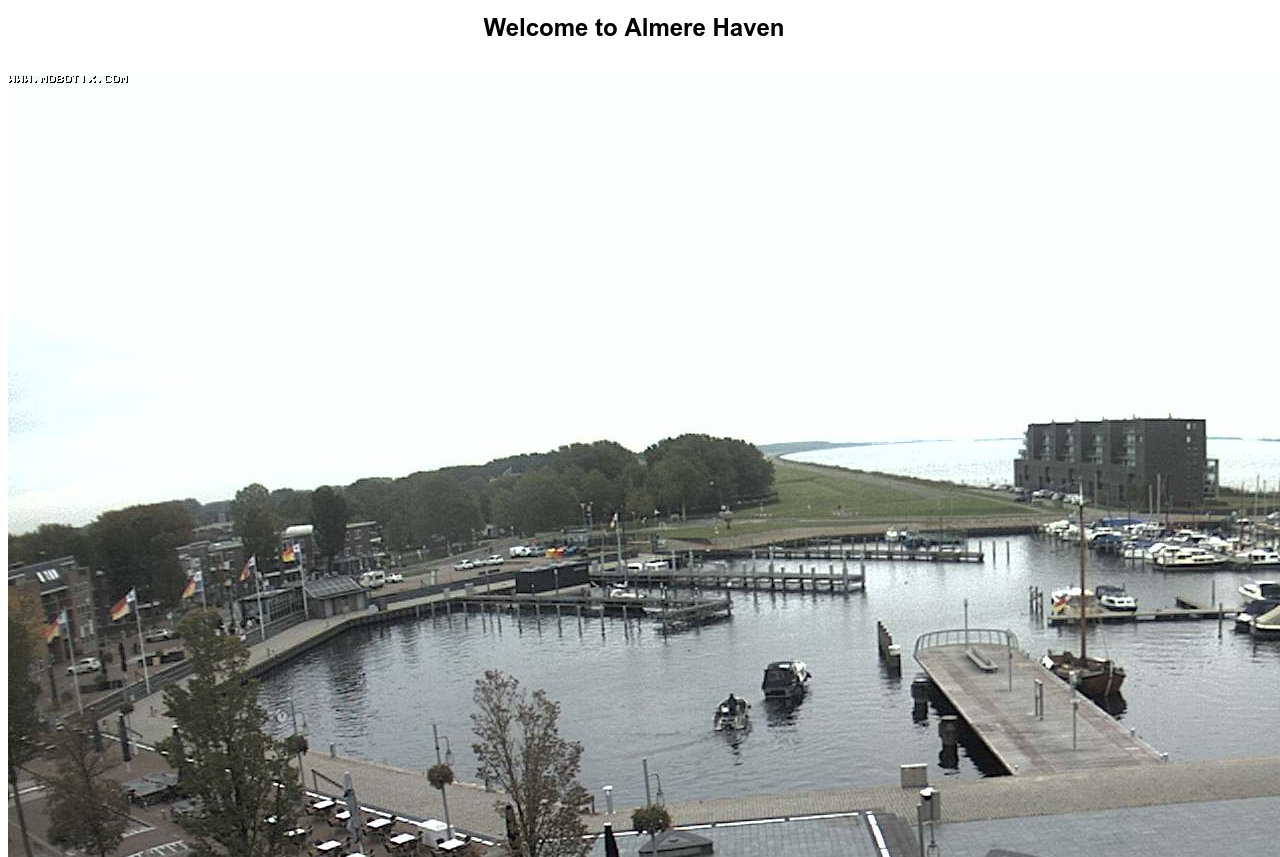maybe: (41, 601, 73, 648), (173, 569, 207, 601), (233, 548, 259, 582)
yes: (107, 584, 140, 622), (280, 541, 308, 569)
